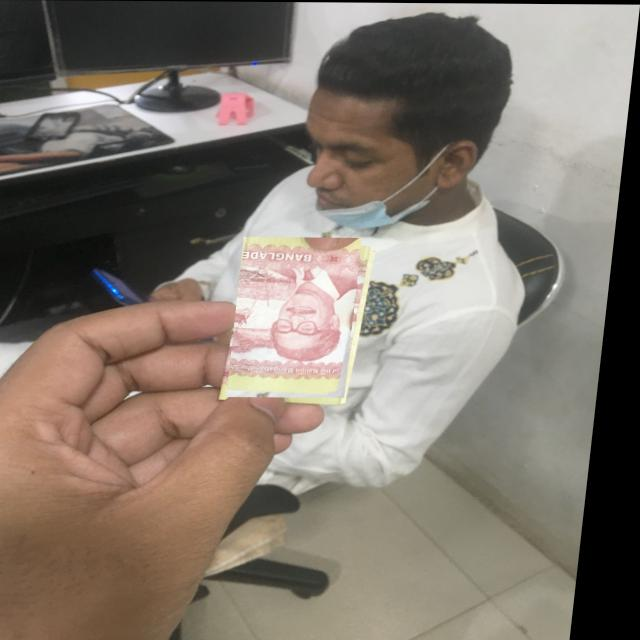Taka: (235, 237, 367, 397)
